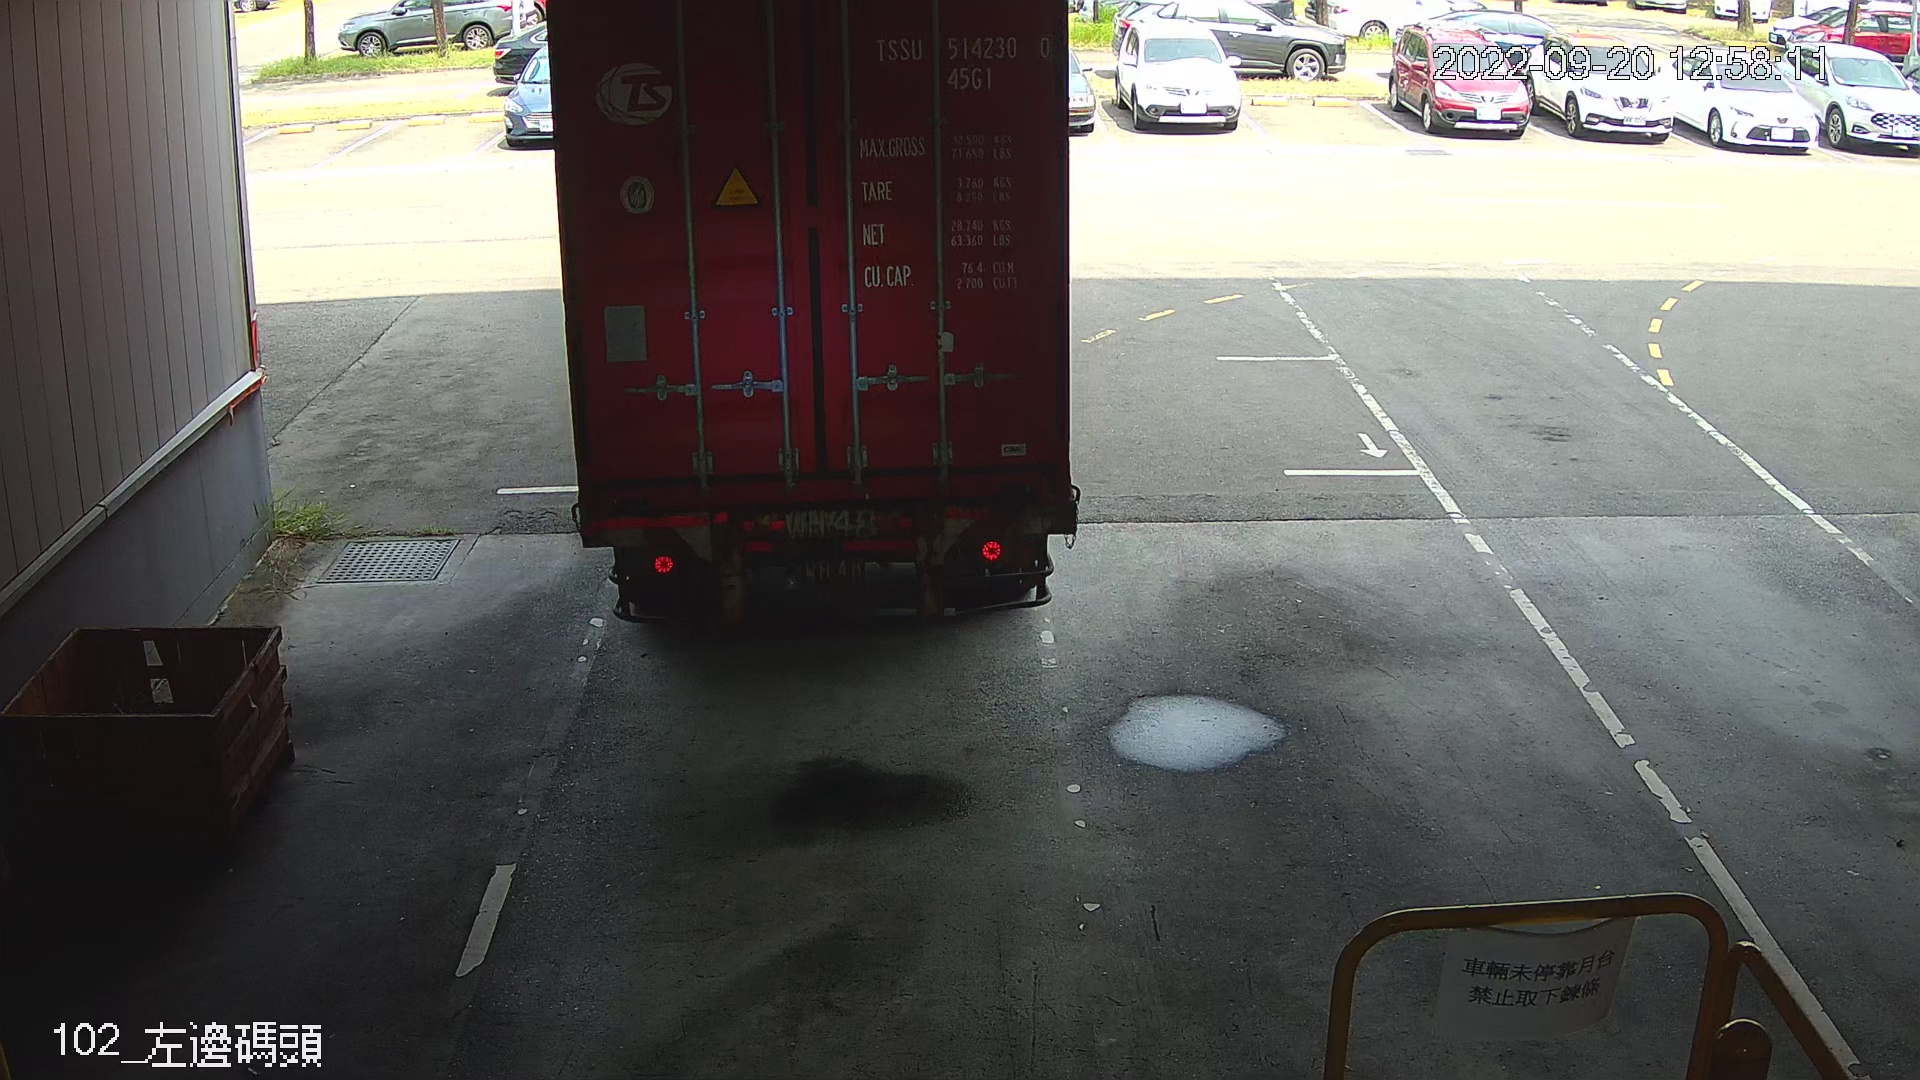container: (864, 24, 1062, 98)
